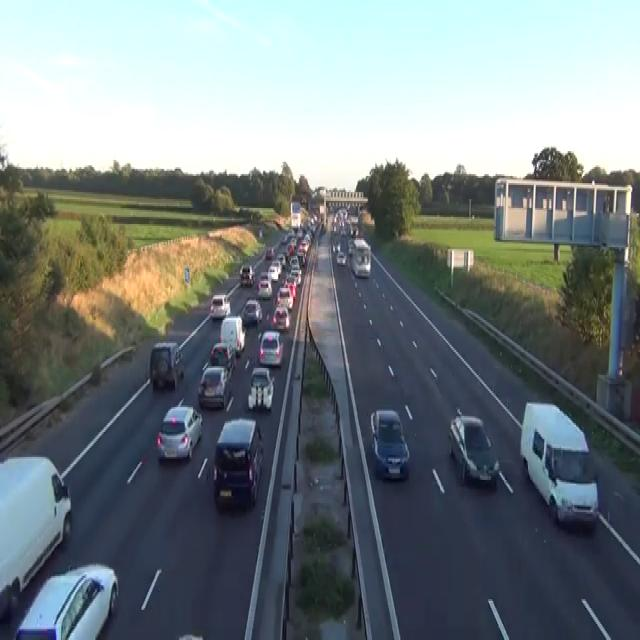Car: (280, 476, 367, 638), (0, 454, 72, 620), (14, 562, 119, 638), (212, 418, 263, 508), (448, 409, 499, 487), (370, 407, 409, 480), (156, 404, 202, 461), (149, 342, 184, 389), (197, 364, 229, 409), (247, 366, 274, 411), (220, 314, 245, 356), (258, 329, 283, 366), (349, 238, 371, 278), (209, 342, 235, 374), (209, 293, 230, 320), (241, 299, 262, 325), (271, 306, 290, 330), (276, 284, 293, 310), (239, 263, 254, 286), (257, 276, 272, 298), (283, 276, 296, 298), (163, 633, 215, 638), (267, 263, 279, 281), (290, 266, 301, 284), (297, 250, 306, 266), (336, 251, 346, 265), (289, 256, 299, 270), (177, 633, 204, 638), (348, 238, 355, 256), (331, 238, 340, 252), (276, 252, 285, 266), (265, 247, 274, 260), (259, 270, 268, 281), (300, 194, 307, 204), (320, 224, 326, 233), (258, 228, 262, 238)
Truck: (519, 400, 599, 528), (290, 201, 300, 227)
